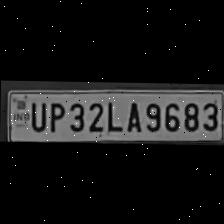2: (86, 96, 104, 130)
3: (198, 98, 218, 131), (65, 98, 84, 131)
6: (160, 98, 180, 130)
8: (179, 98, 199, 131)
9: (141, 98, 161, 131)
A: (122, 96, 140, 130)
L: (102, 96, 122, 132)
P: (46, 97, 64, 131)
U: (27, 98, 45, 131)
